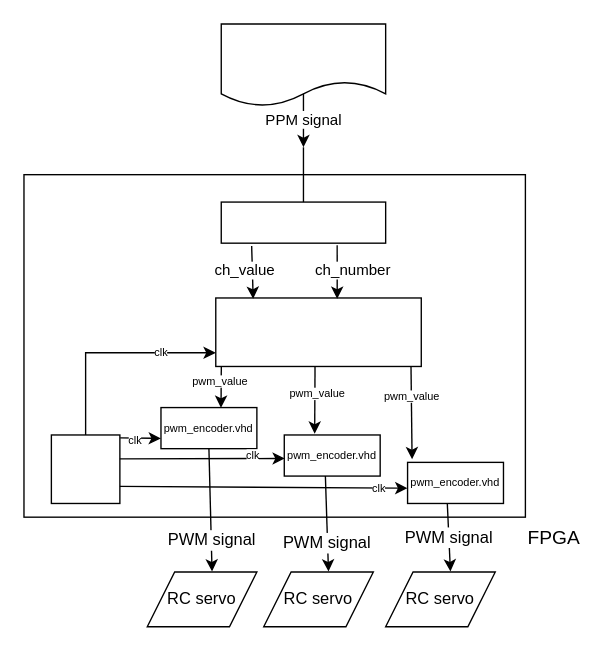
Image size: 604x651. Some labels were removed from this diagram. The centre of each missing label's shape, as x and y in pixels:
"Clock source" goes at point 85,468.
"PPM_decoder.vhd" goes at point 303,222.
"ppm_in_pwm_out.vhd (top module)" goes at point 317,331.
"RC receiver" goes at point 303,64.
